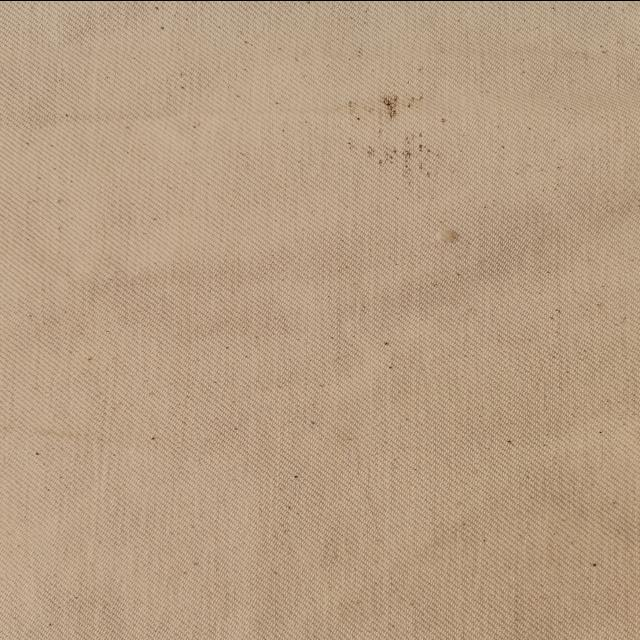taaaches: (346, 90, 438, 130), (341, 139, 431, 173)
